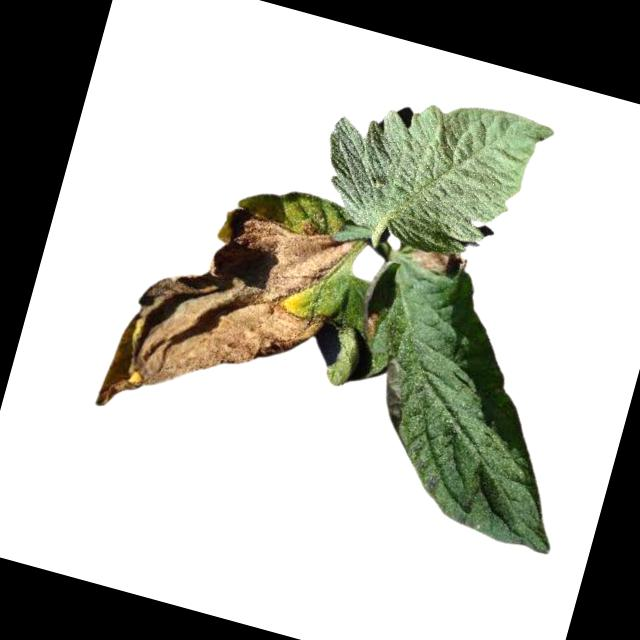Late_blight: (94, 176, 366, 463), (370, 355, 419, 435), (405, 239, 471, 284), (357, 308, 386, 343)
healthy: (307, 68, 558, 276)
